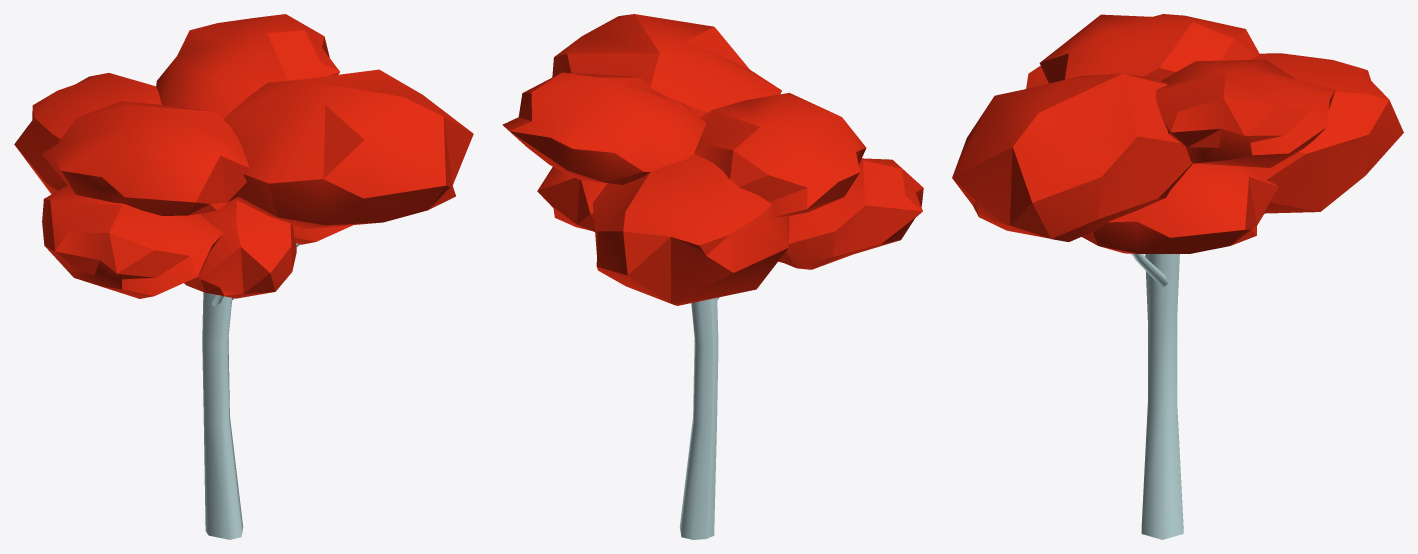
The model's file is SM_Bouleau.FBX.
3 views of the same model, side by side, from view 1: azimuth 30°, elevation 25°; view 2: azimuth 150°, elevation 25°; view 3: azimuth 270°, elevation 25° (orthographic). The views are drawn at different scales.
Parts seen in each view (by area): view 1: SM_Bouleau; view 2: SM_Bouleau; view 3: SM_Bouleau.
Part boxes in pixels (<box>): SM_Bouleau: <box>14,14,473,539</box>; SM_Bouleau: <box>502,14,923,539</box>; SM_Bouleau: <box>952,14,1403,539</box>.
Size of the model in its own units: 328 by 373 by 309.
